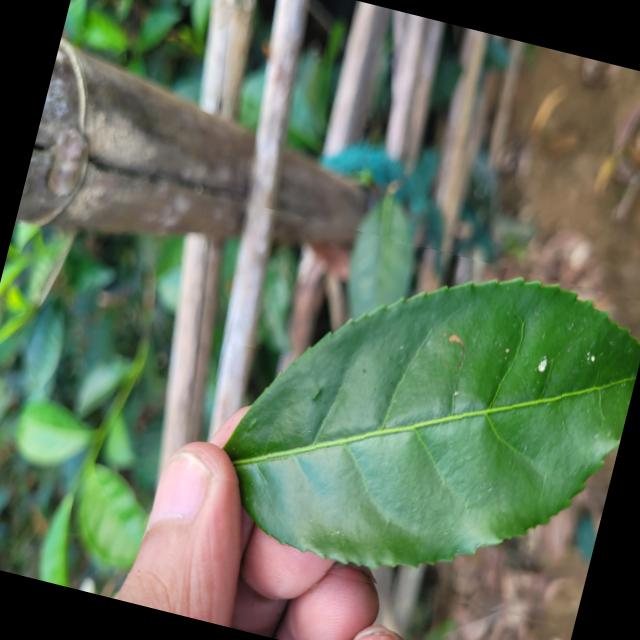Category D(7+ days, Not for Tea): (175, 204, 640, 636)
